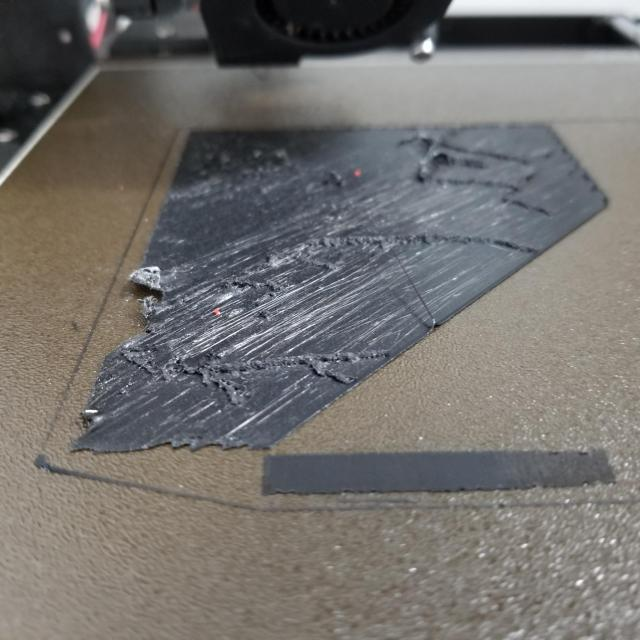spaghetti: (126, 245, 400, 410), (402, 124, 559, 218), (205, 135, 348, 197)
